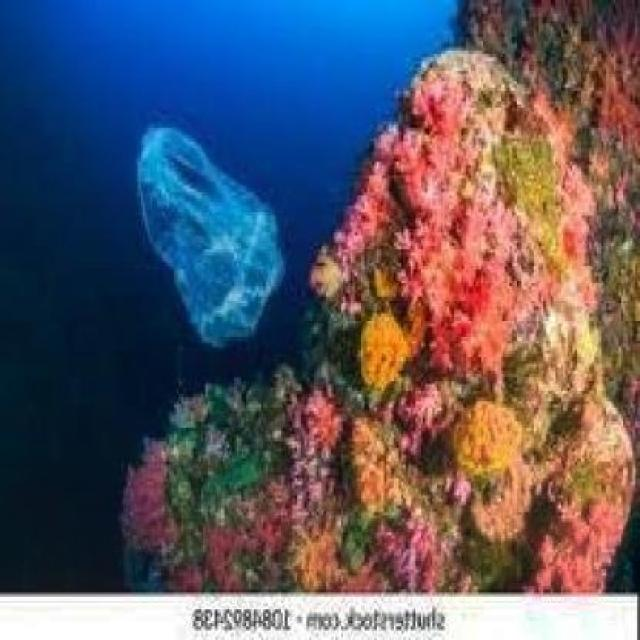pbag: (135, 121, 288, 347)
